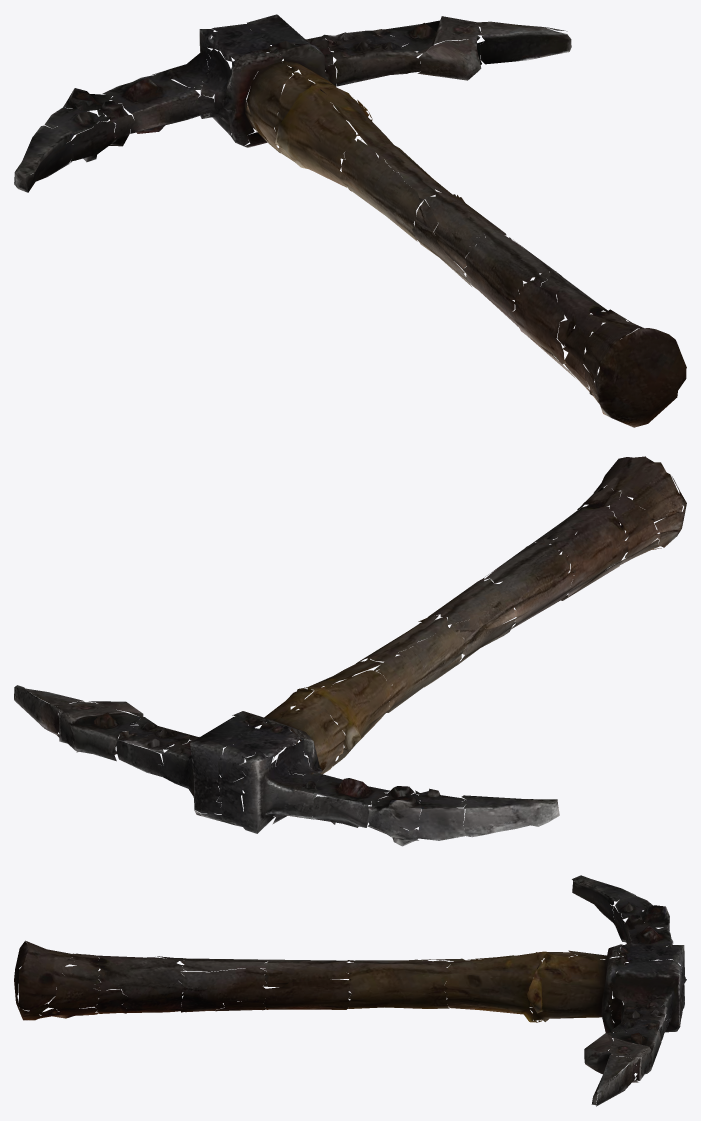
Rendered from pick.glb.
3 renders of one model, top to bottom at view 1: azimuth 30°, elevation 25°; view 2: azimuth 150°, elevation 25°; view 3: azimuth 270°, elevation 25°, orthographic. The views are drawn at different scales.
Parts seen in each view (by area): view 1: tripo_node_a374ea92-81b3-4bed-b56d-feb2df9429f5; view 2: tripo_node_a374ea92-81b3-4bed-b56d-feb2df9429f5; view 3: tripo_node_a374ea92-81b3-4bed-b56d-feb2df9429f5.
Boxes of the visible parts, x1,y1,x2,y2 form: tripo_node_a374ea92-81b3-4bed-b56d-feb2df9429f5: (14, 14, 686, 427); tripo_node_a374ea92-81b3-4bed-b56d-feb2df9429f5: (14, 456, 686, 846); tripo_node_a374ea92-81b3-4bed-b56d-feb2df9429f5: (14, 875, 686, 1106).
Size of the model in its own units: 0.7534 by 0.1233 by 1.
1 material, 1 textured.
